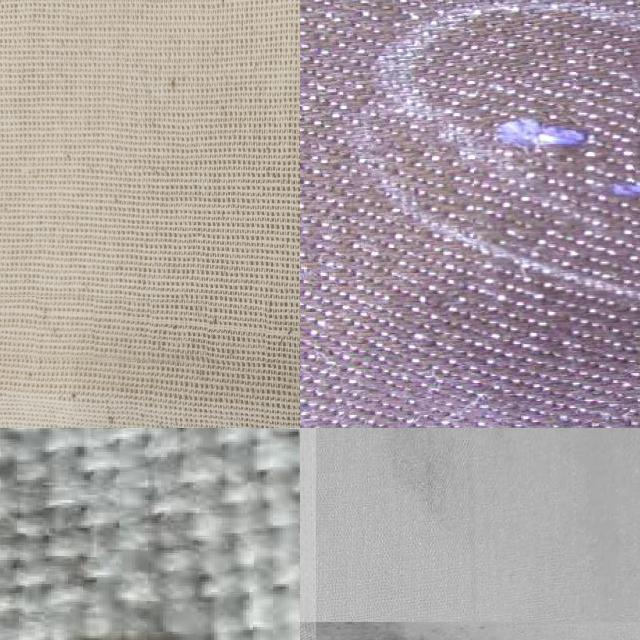stains: (474, 71, 640, 253), (0, 532, 252, 640), (0, 296, 300, 364)
